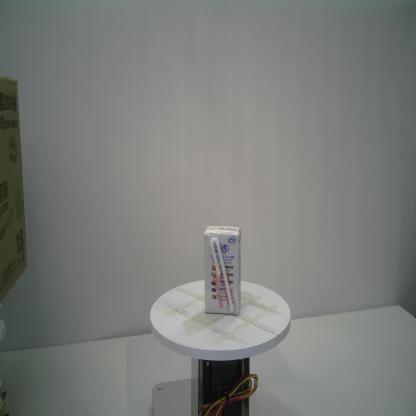Milk: (202, 224, 242, 316)
